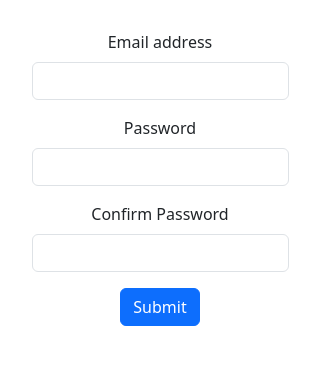
Test: APP › Error handling › should show confirm password error message on invalid confirm password
This screenshot has width=321, height=367.
Expected: the text "The passwords don't match. Try again." is not shown
Type "selena@gmail.com" into the field labelled "Email address" at (160,81), box [32,62,288,100]
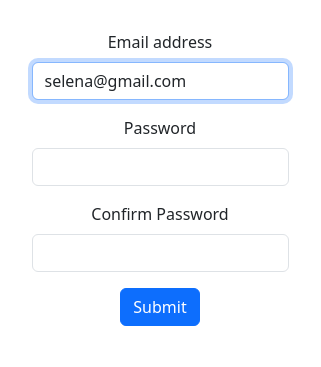
Type "123456" into the password field labelled "Password" at (160,167), box [32,148,288,186]
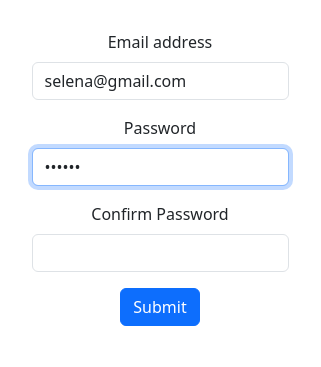
Type "1234567aaa" into the password field labelled "Confirm Password" at (160,253), box [32,234,288,272]
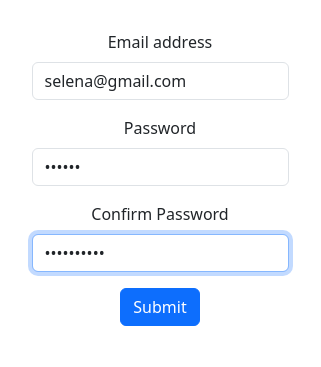
Click the button "Submit" at (160,307), box [120,288,200,326]
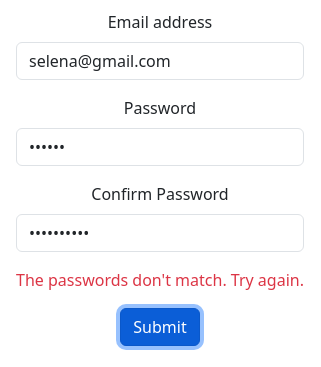
Now the text "The passwords don't match. Try again." is shown, box [16,268,304,292]
